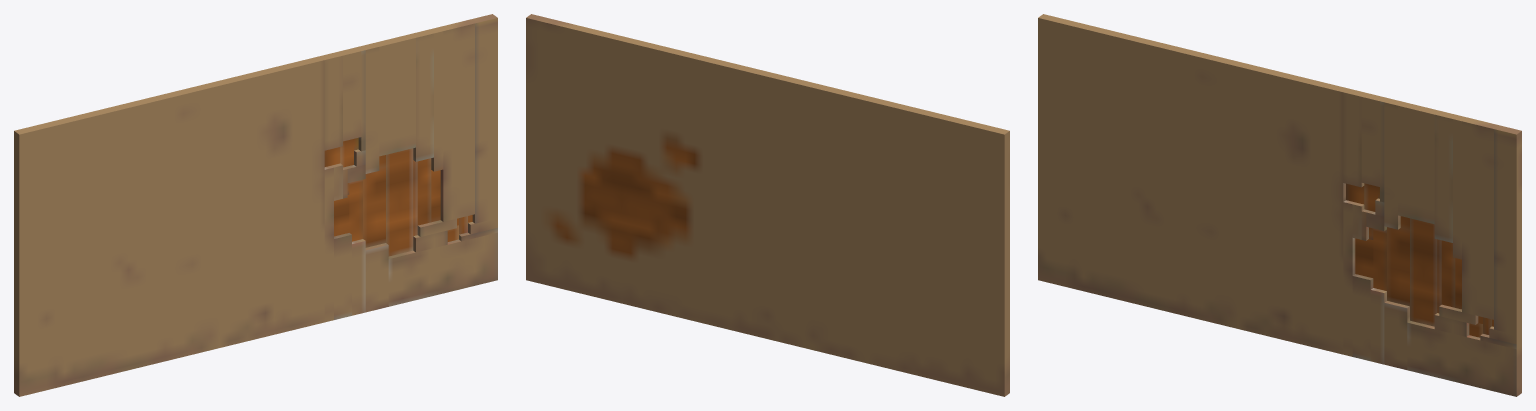
Rendered from WallBackModeratelyDamaged_00.obj.
3 renders of one model, left to right at view 1: azimuth 30°, elevation 25°; view 2: azimuth 150°, elevation 25°; view 3: azimuth 330°, elevation 25°, orthographic.
Parts seen in each view (by area): view 1: WallBackModeratelyDamaged_00; view 2: WallBackModeratelyDamaged_00; view 3: WallBackModeratelyDamaged_00.
Boxes of the visible parts, <box> form: WallBackModeratelyDamaged_00: <box>14,14,497,396</box>; WallBackModeratelyDamaged_00: <box>526,14,1009,396</box>; WallBackModeratelyDamaged_00: <box>1038,14,1521,396</box>.
Bounding box in the file's own units: 5.25 × 2.75 × 0.1.
